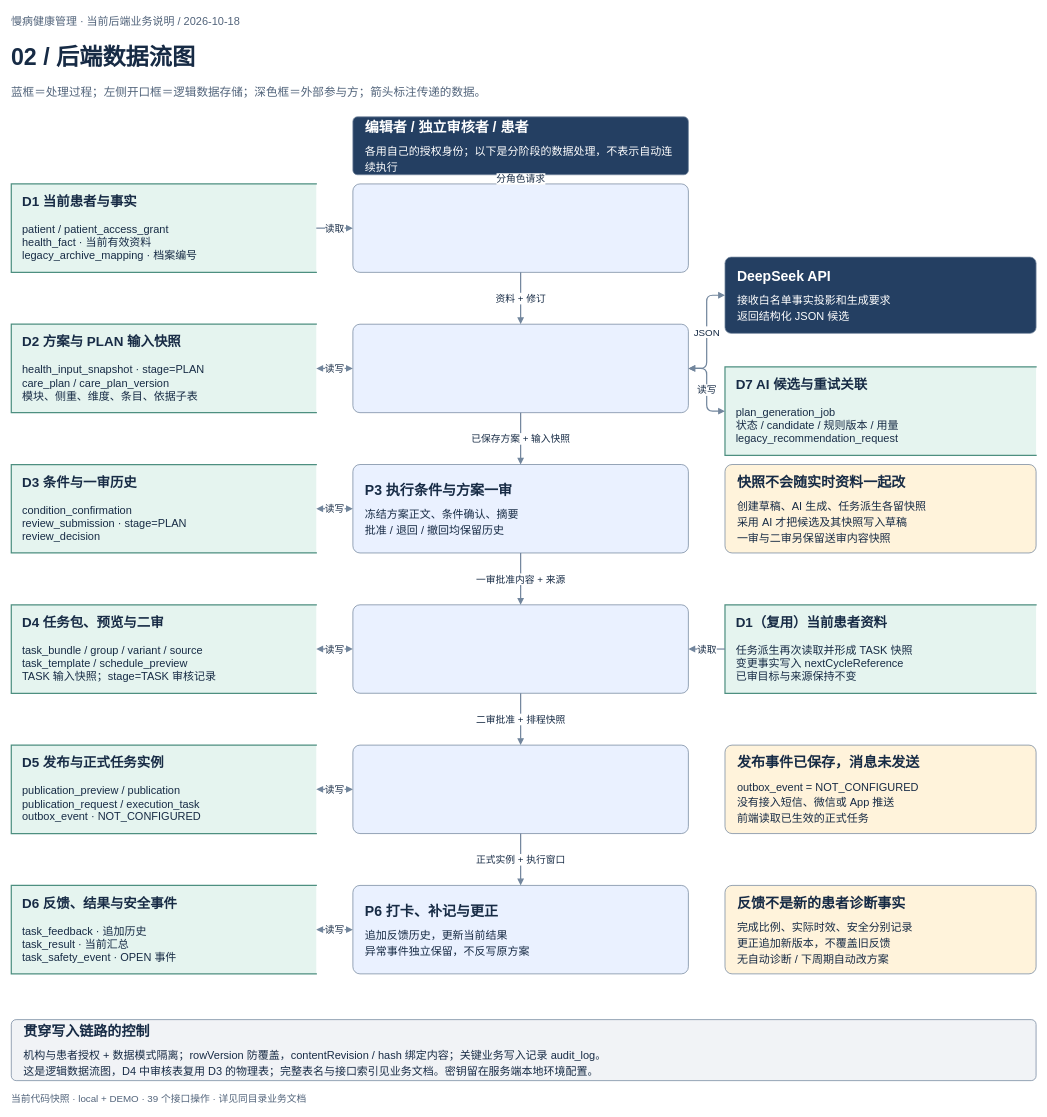
Some shapes in this 1047 by 1117 pixel diagram are drawn without their labels. The shapes that lost their labels are listed below. From the top down, each one's centre as x and y in pixels, then its label:
At (x=520, y=227): "P1 授权查询与患者资料 读取当前有效事实与 profileRevision 缺失为未知，保留自述 / 专业确认区别".
At (x=520, y=368): "P2 草稿、AI 作业与人工采用 每次生成重新冻结 PLAN 输入 模型调用在事务外；采用时校验修订".
At (x=520, y=648): "P4 任务派生、排程与二审 只派生已审执行条目；另读 TASK 资料 保留来源；冻结排程与二审快照".
At (x=520, y=789): "P5 发布与患者日任务 按发布清单复制已审 occurrence 实例、替代、幂等、事件同一事务".
